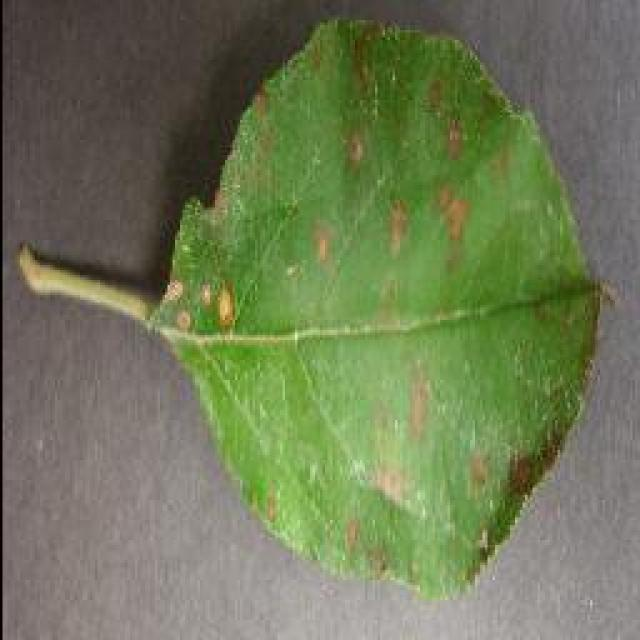apple healthy: (18, 12, 610, 602)
